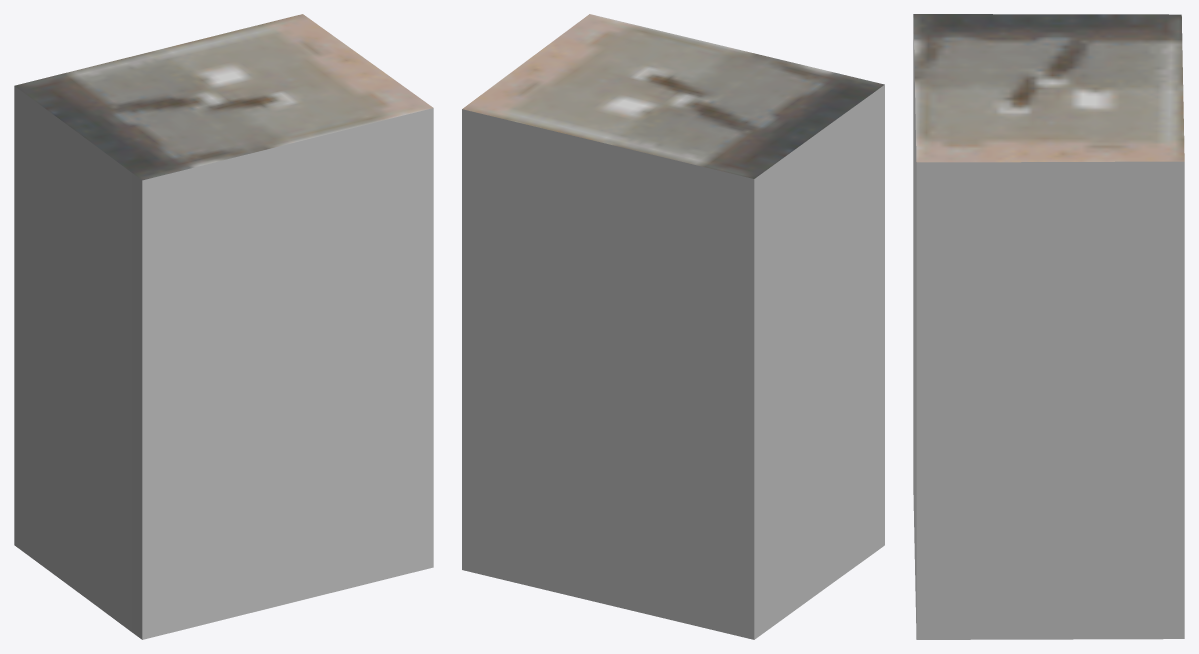
File: DEBW_0010007Txgr.gltf
The picture shows the model from 3 angles, left to right: view 1: azimuth 30°, elevation 25°; view 2: azimuth 150°, elevation 25°; view 3: azimuth 270°, elevation 25°; orthographic projection. The views are drawn at different scales.
Parts seen in each view (by area): view 1: Z_UP; view 2: Z_UP; view 3: Z_UP.
Boxes of the visible parts, x1=… form: Z_UP: x1=14, y1=14, x2=433, y2=639; Z_UP: x1=462, y1=14, x2=884, y2=639; Z_UP: x1=913, y1=14, x2=1184, y2=639.
Bounding box in the file's own units: 11.39 × 17.08 × 8.79.
2 materials, 1 textured.
